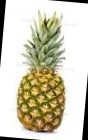Pineapple: (18, 8, 68, 135)
